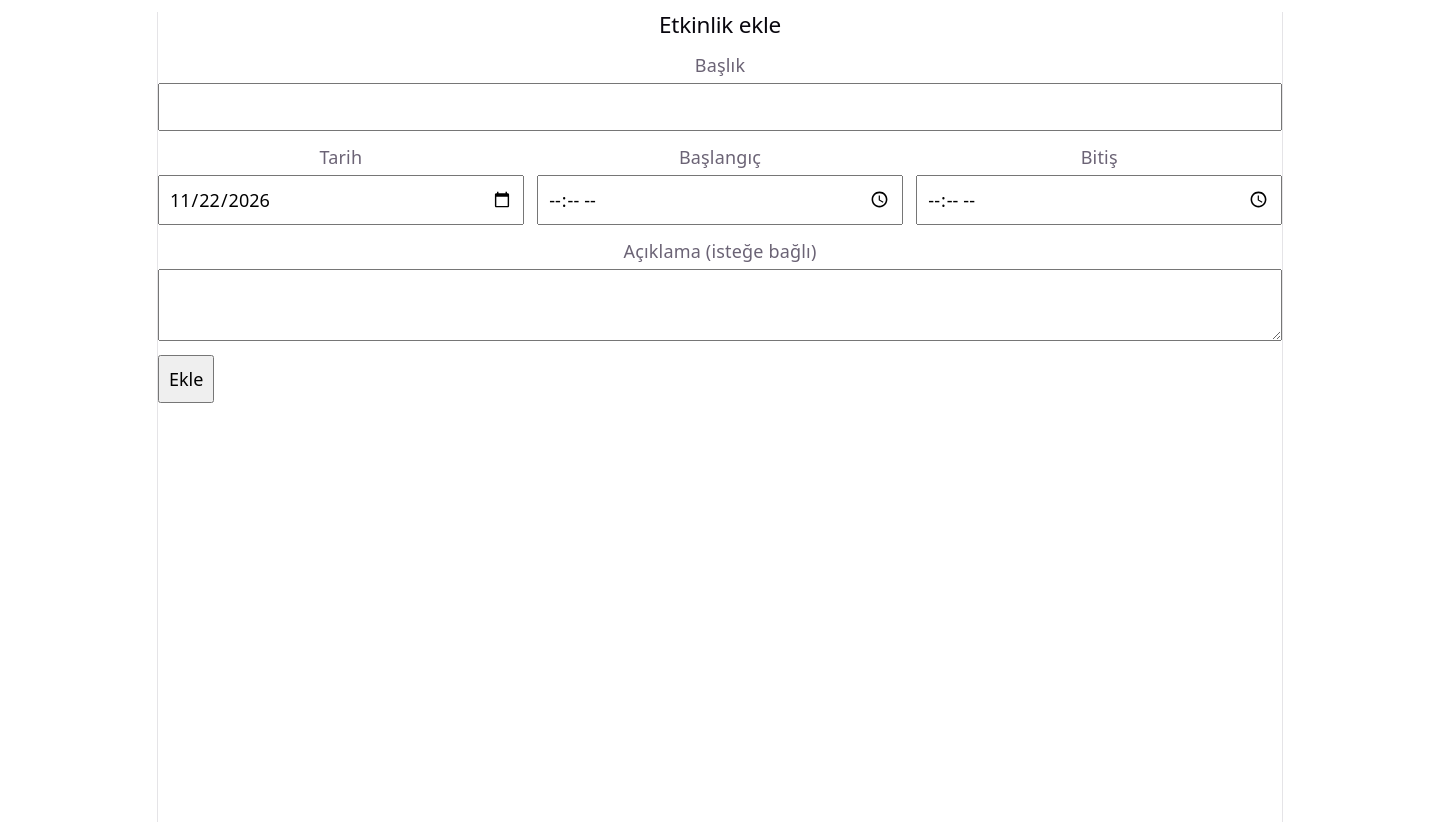
Test: AddEventForm (FR-M3-01) › sends the event to the API with the login token
Type "Yüzme" into the field labelled "Başlık" at (720, 107), box [158,83,1282,131]
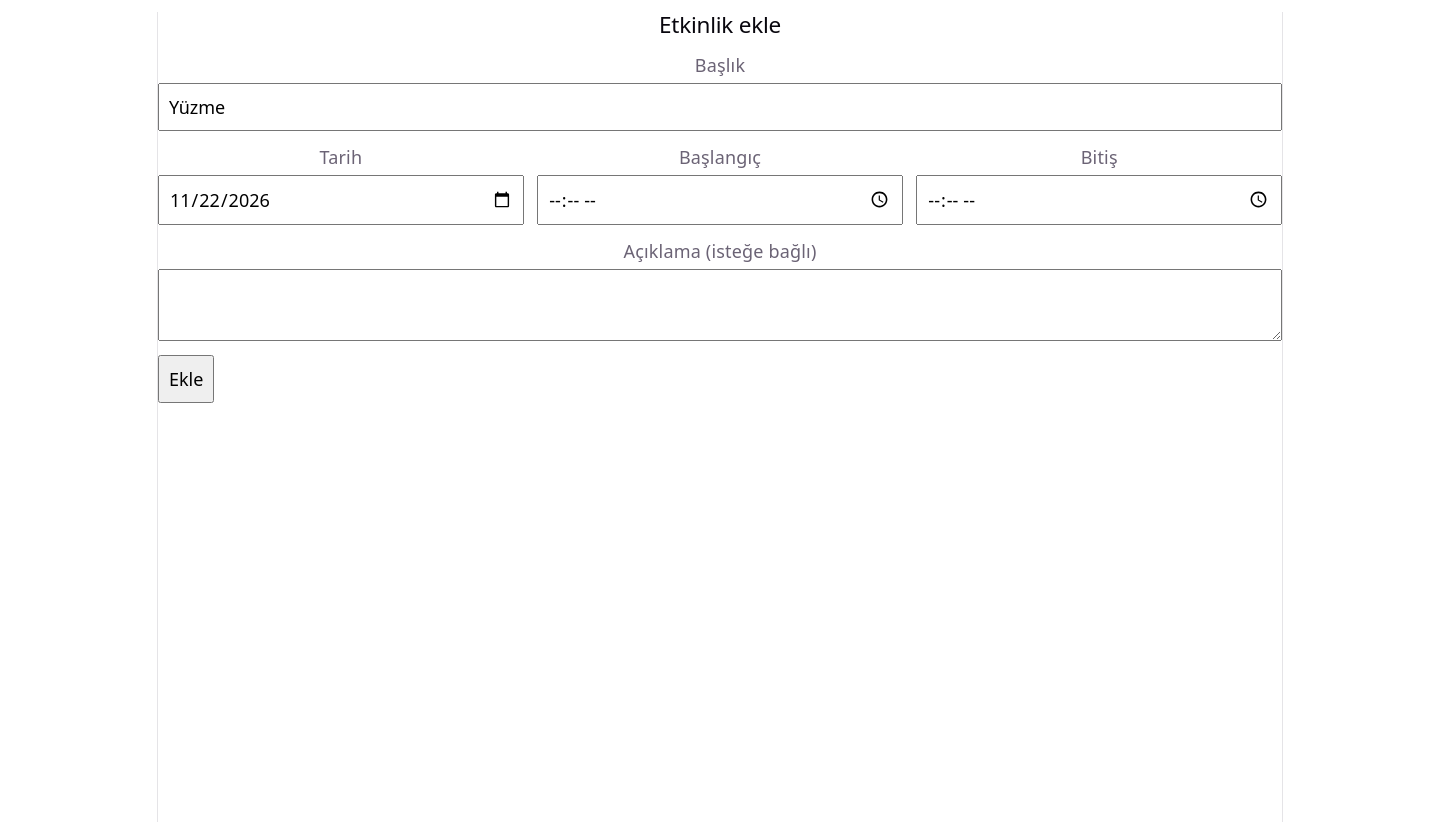
Type "2026-11-20" into the date field labelled "Tarih" at (341, 200), box [158,175,524,225]
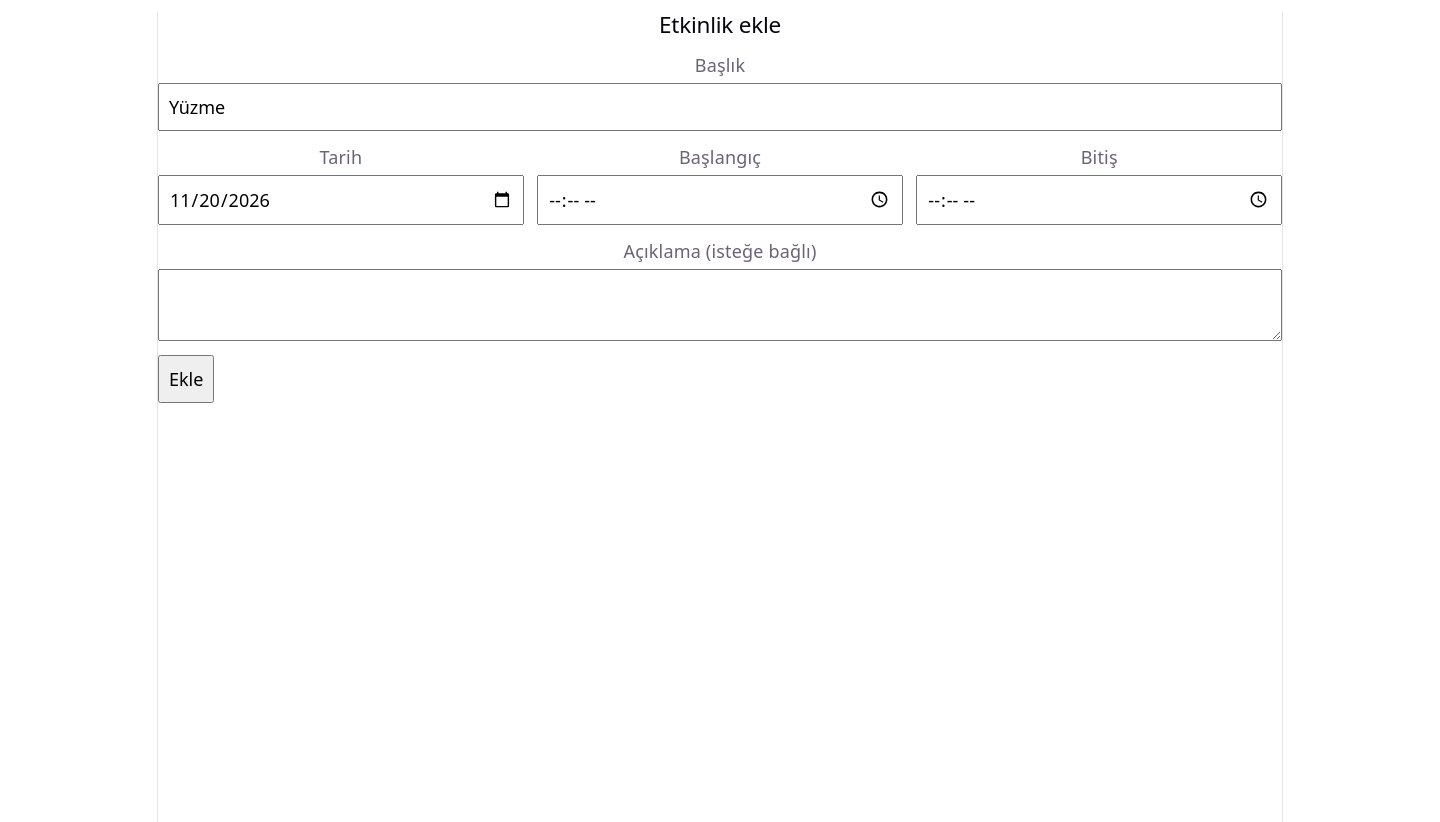
Type "17:00" into the time field labelled "Başlangıç" at (720, 200), box [537,175,903,225]
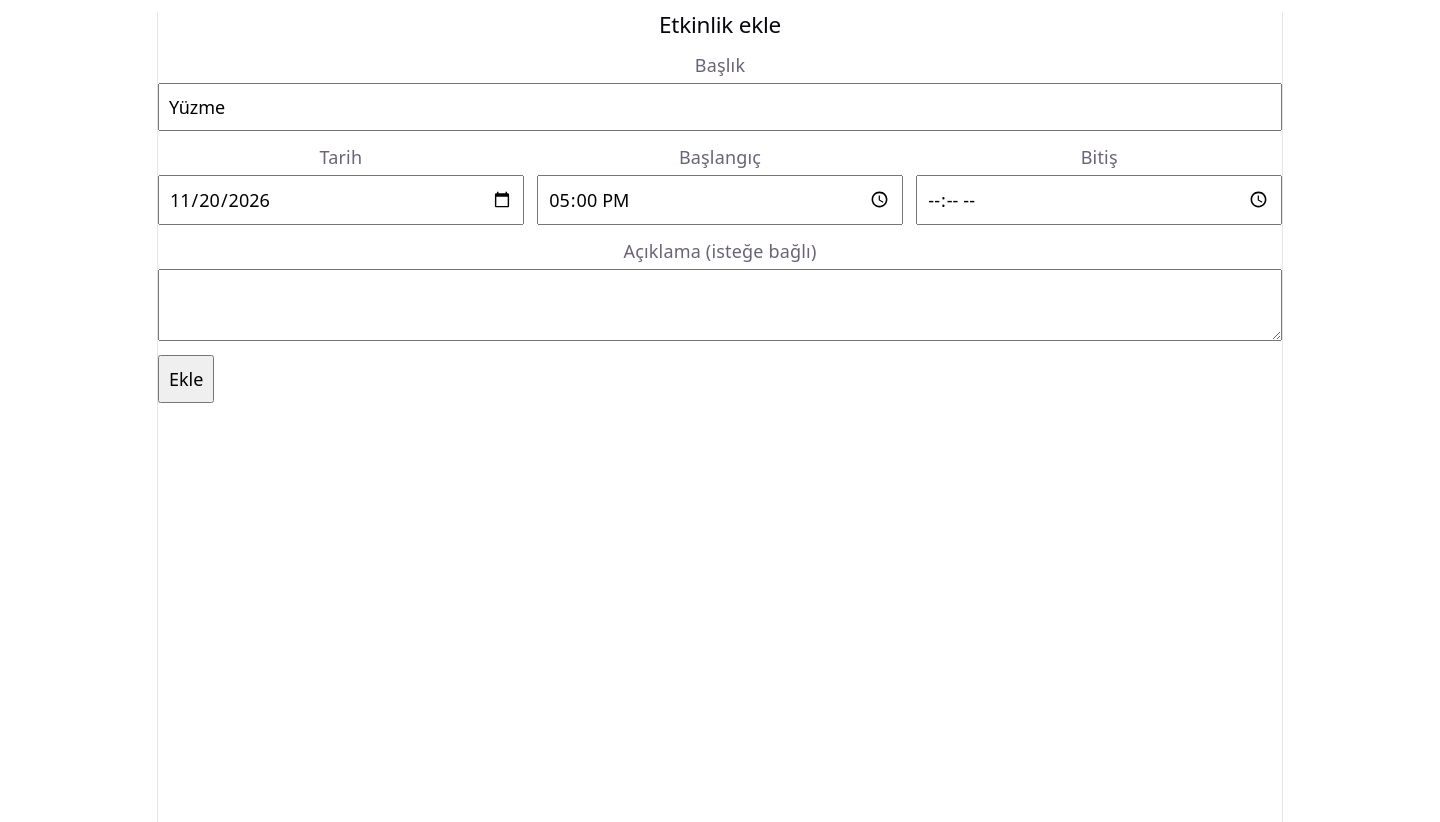
Type "18:00" into the time field labelled "Bitiş" at (1099, 200), box [916,175,1282,225]
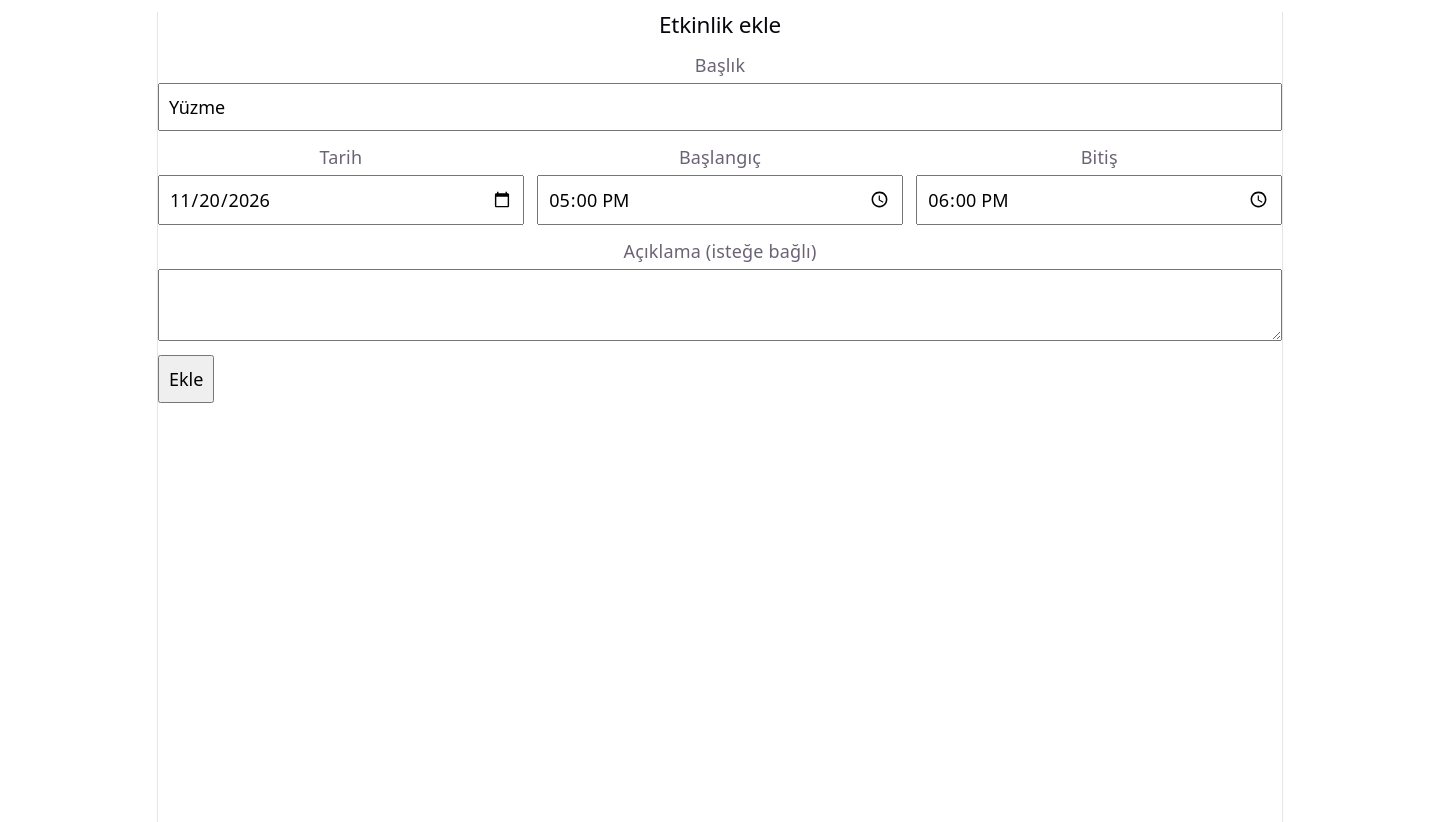
Type "Havlu getir." into the text box labelled "Açıklama (isteğe bağlı)" at (720, 305), box [158,269,1282,341]
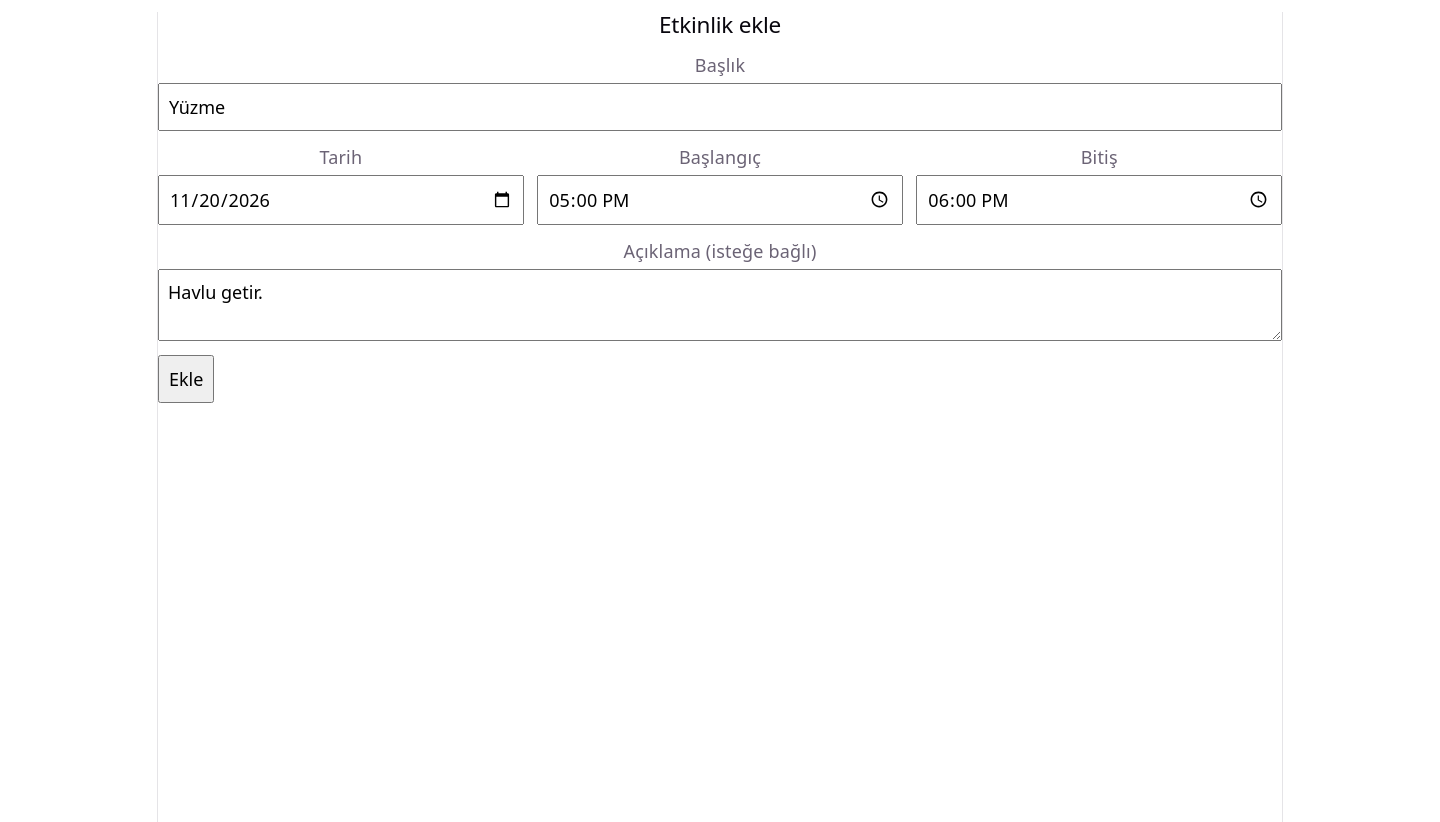
Click the button "Ekle" at (186, 379), box [158,355,214,403]
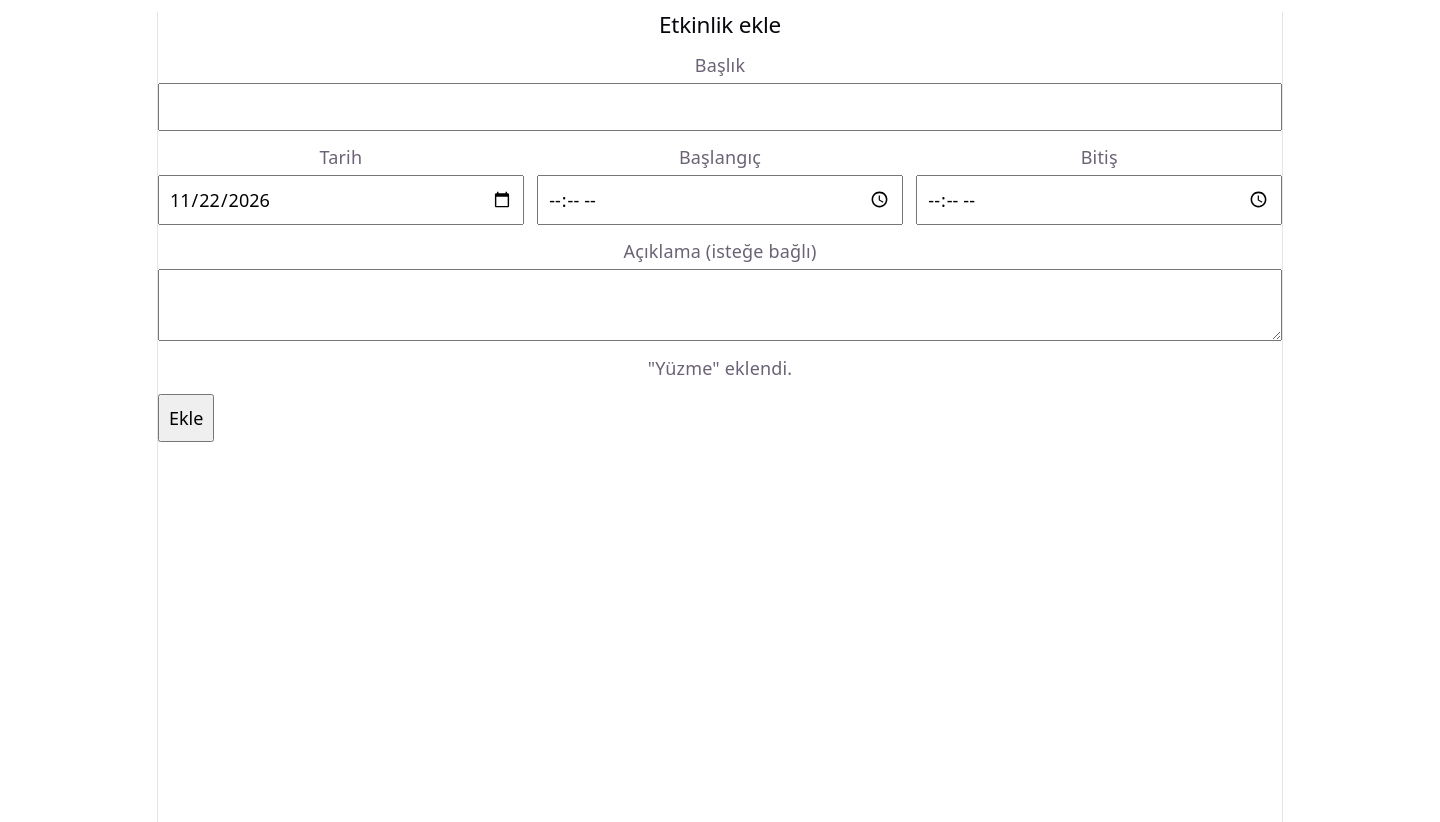
expect the message "\"Yüzme\" eklendi." is shown: met, box [648,356,792,380]
